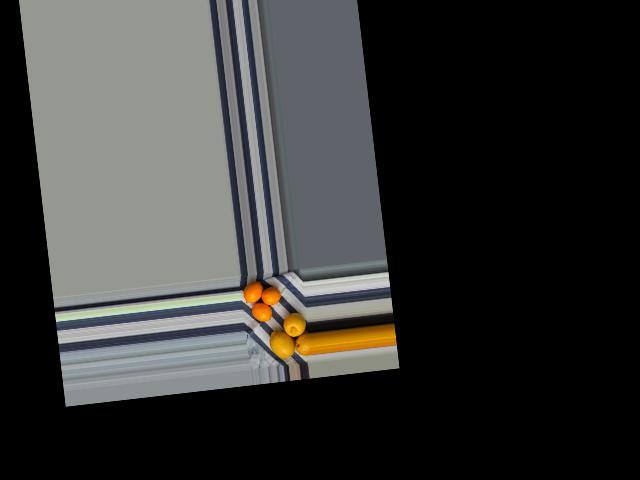lemon: (242, 280, 264, 304)
